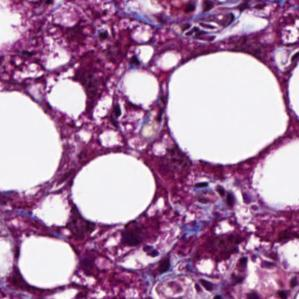inflammation: (150, 0, 254, 44), (223, 245, 299, 299), (154, 253, 229, 299)
